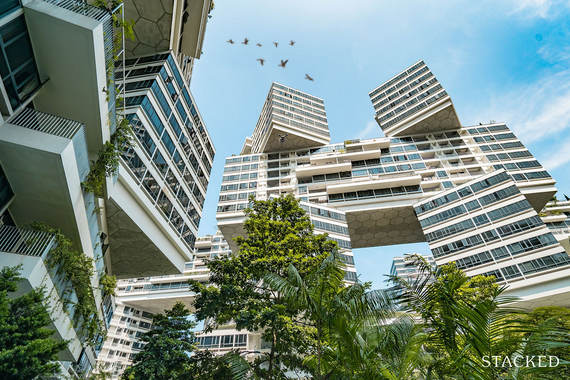drone_other: (275, 132, 289, 144)
